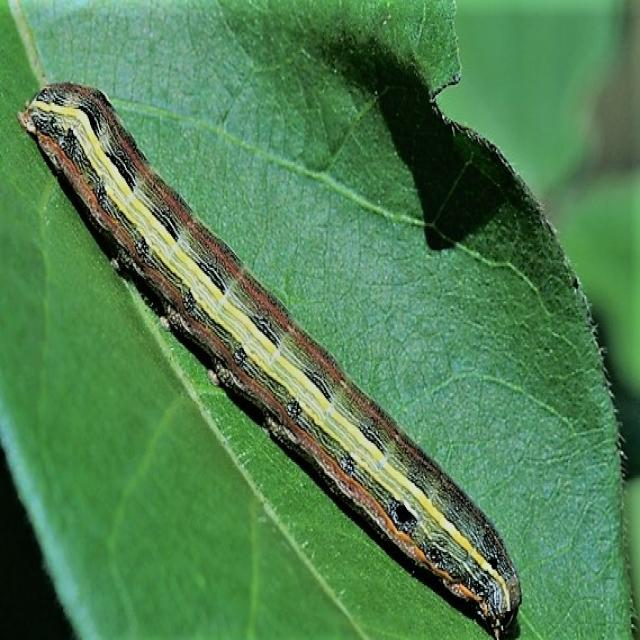armyworm: (17, 79, 523, 636)
